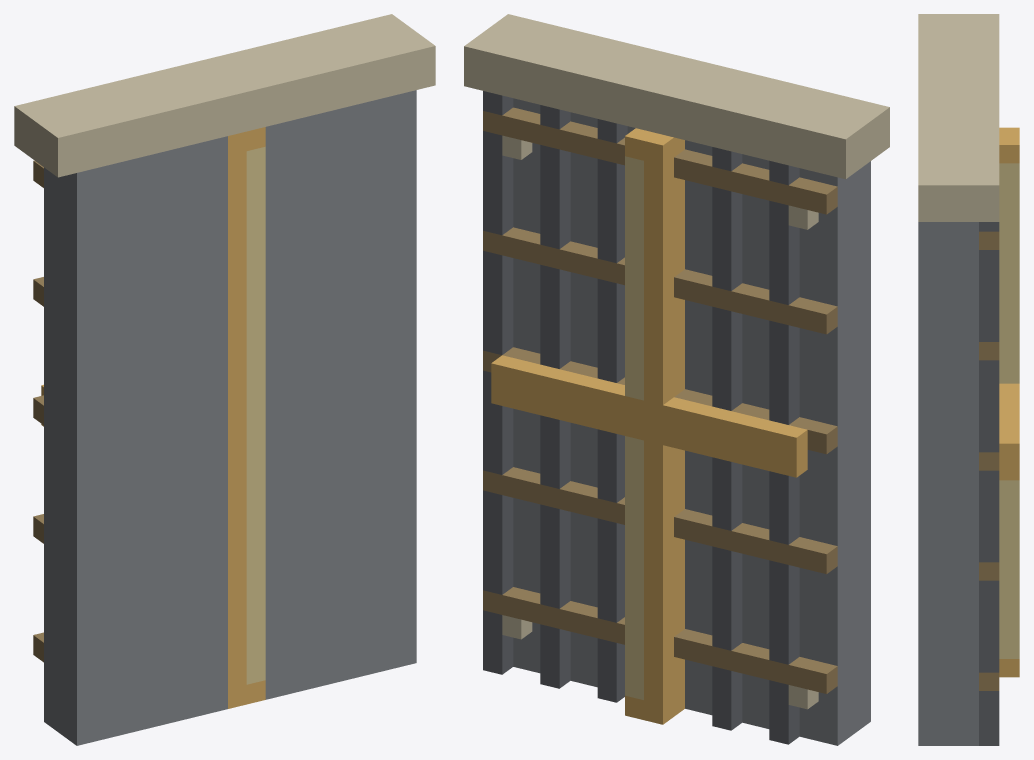
File: gate.glb
The picture shows the model from 3 angles, left to right: view 1: azimuth 30°, elevation 25°; view 2: azimuth 150°, elevation 25°; view 3: azimuth 270°, elevation 25°; orthographic projection. The views are drawn at different scales.
Bounding box in the file's own units: 20 × 31 × 5.
